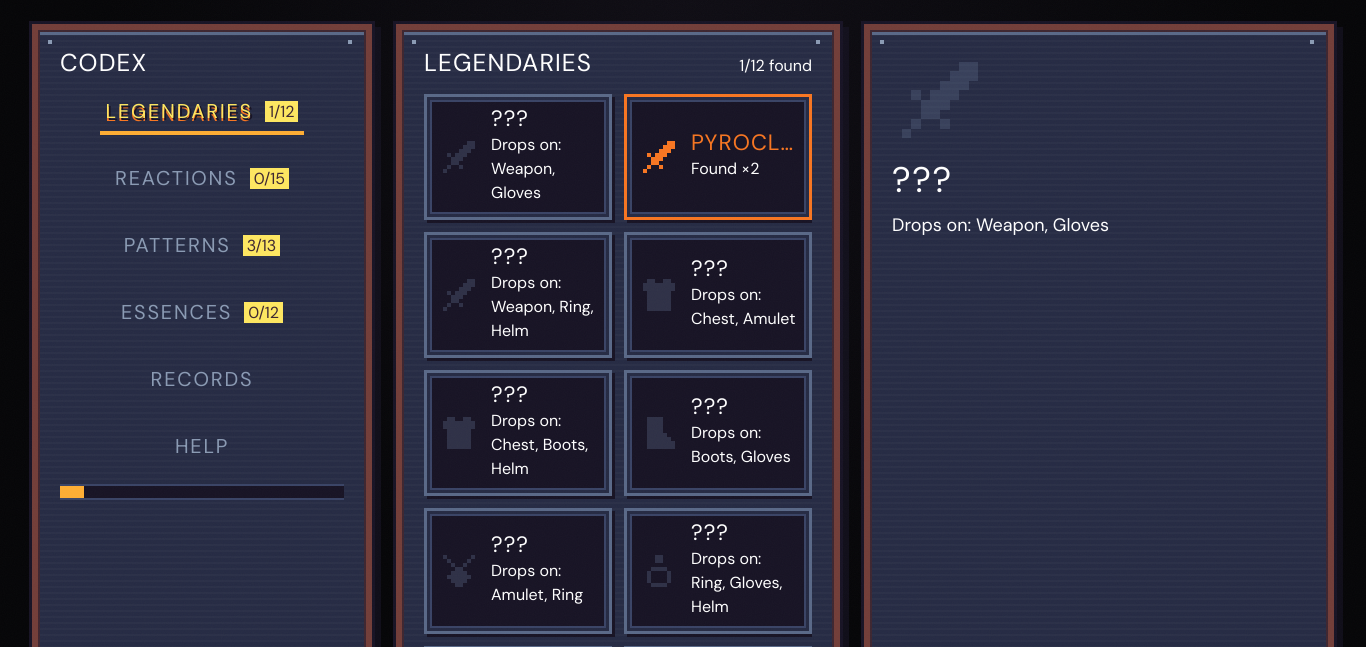
Test: CodexTab › opens on the legendaries: found ones by name, the rest as ???, with the count on their section
Expected: the tab with test id "codex-section-legendaries" reads "Legendaries 1/12", [100,90,304,135]
Expected: the element with test id "codex-detail" shows "???", [892,157,953,203]
Focus the button with test id "codex-found": (718, 157) [624,94,812,220]
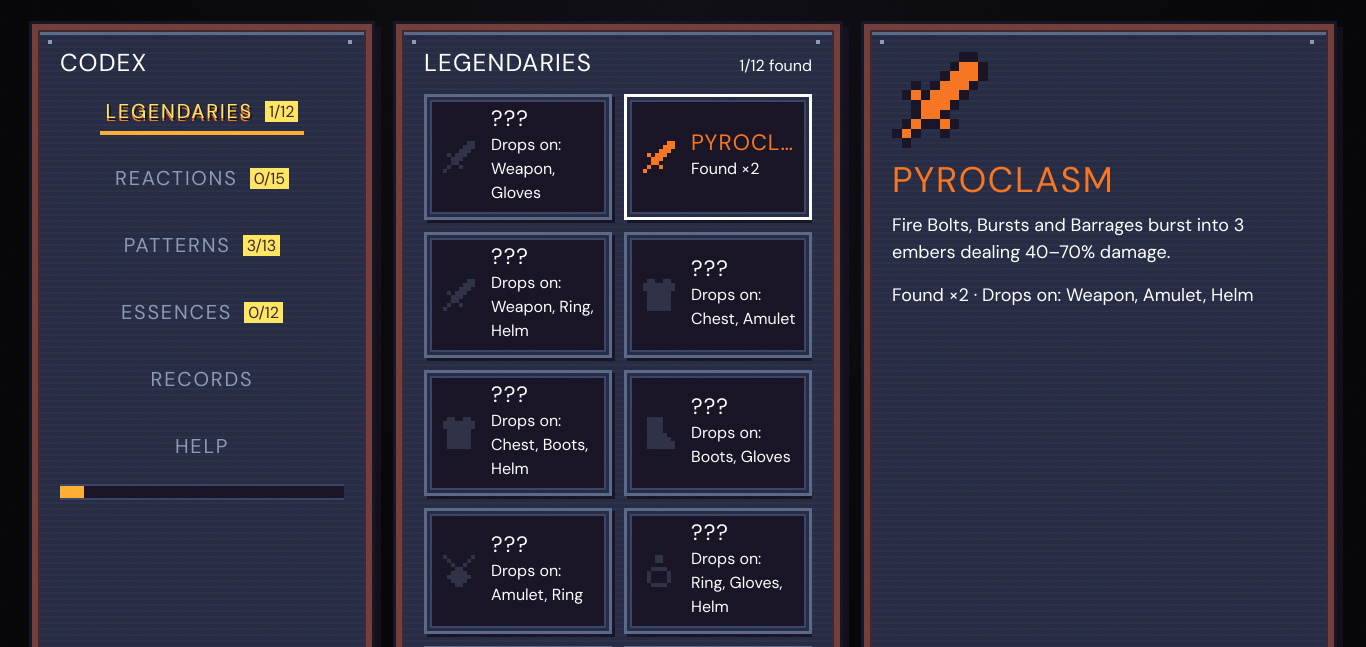
Expected: the element with test id "codex-detail" shows "Pyroclasm", [892,157,1114,203]
